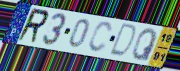0: (67, 18, 92, 49)
3: (41, 13, 68, 47)
C: (87, 21, 113, 55)
D: (107, 22, 138, 59)
Q: (131, 28, 158, 63)
R: (15, 7, 51, 46)
